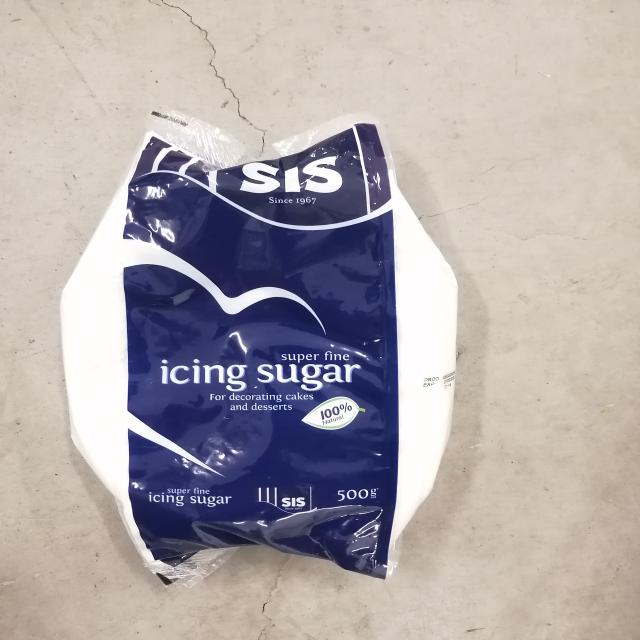object_name: (99, 122, 428, 587)
